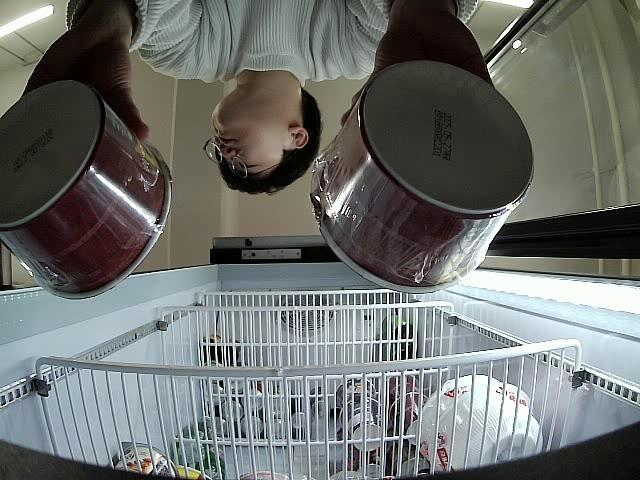05_nuguri_L: (308, 59, 536, 292), (0, 78, 179, 302)
